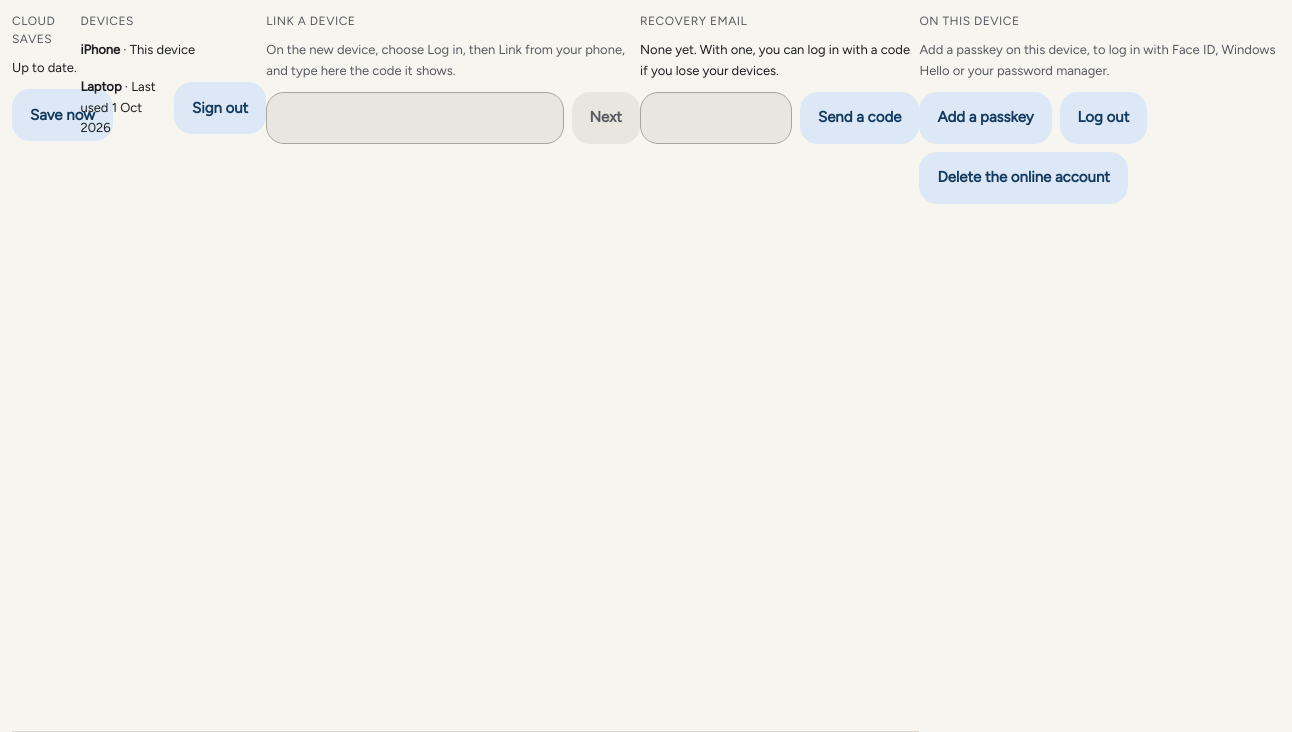
Test: Settings → Cloud saves › links a device once its name is seen, the code typed any way
Type "k7f29q" into the field named "Code on the new device". click: (415, 118)
box: top-left (266, 92), bottom-right (564, 144)
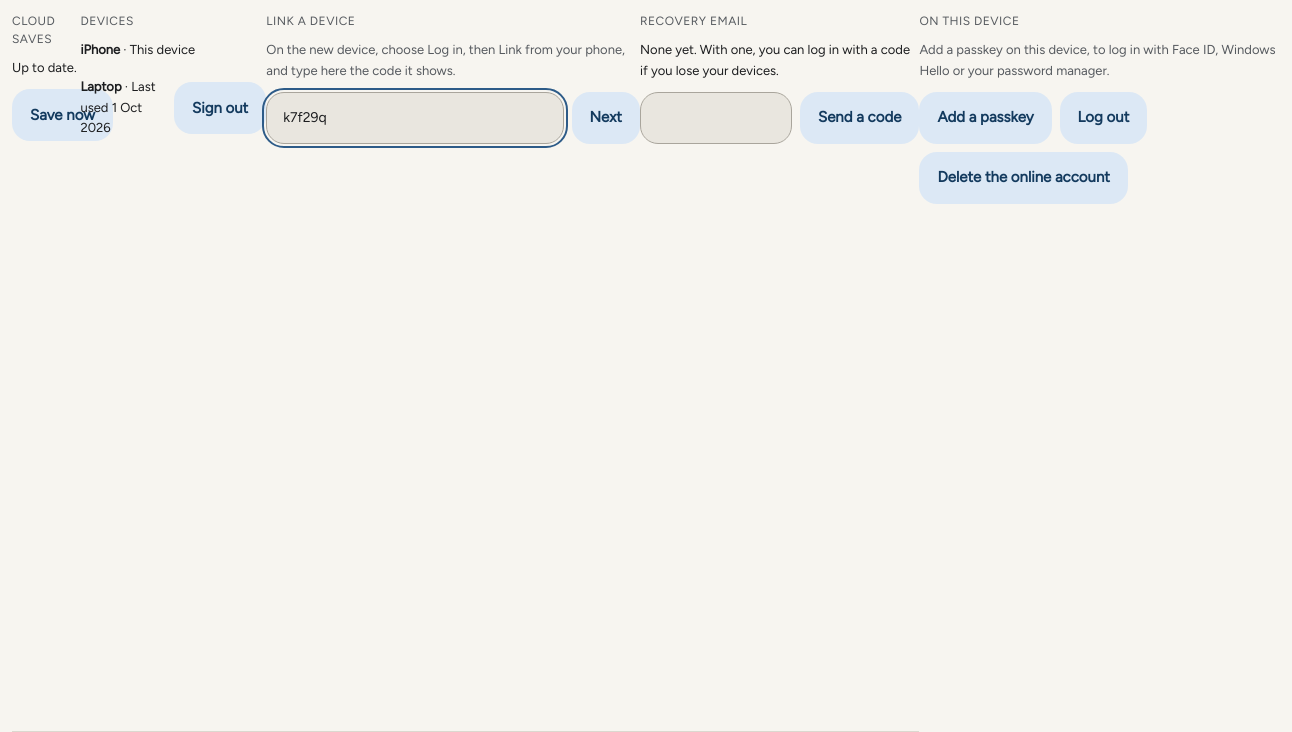
Click the button "Next". click: (606, 118)
box: top-left (572, 92), bottom-right (640, 144)
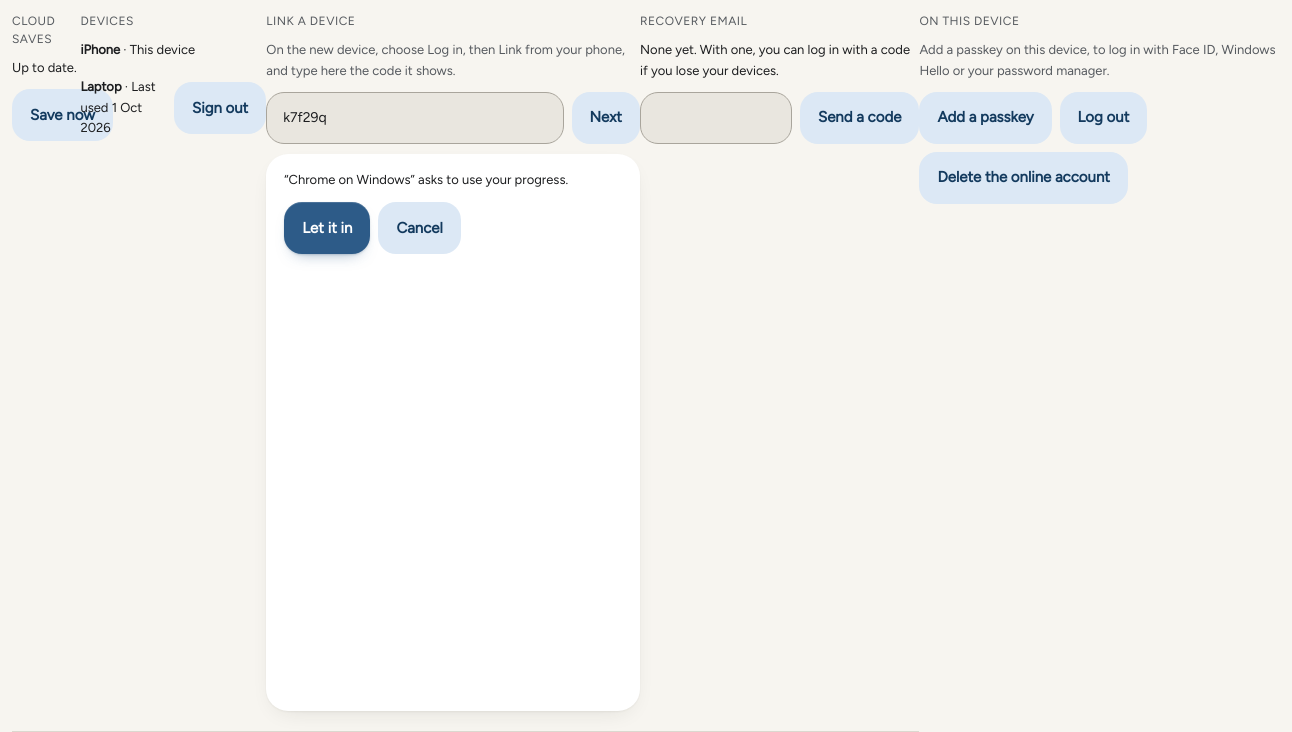
Check: the text "“Chrome on Windows” asks to use your progress." is shown, box top-left (284, 172), bottom-right (568, 187)
Click the button "Let it in". click: (327, 228)
box: top-left (284, 202), bottom-right (370, 254)
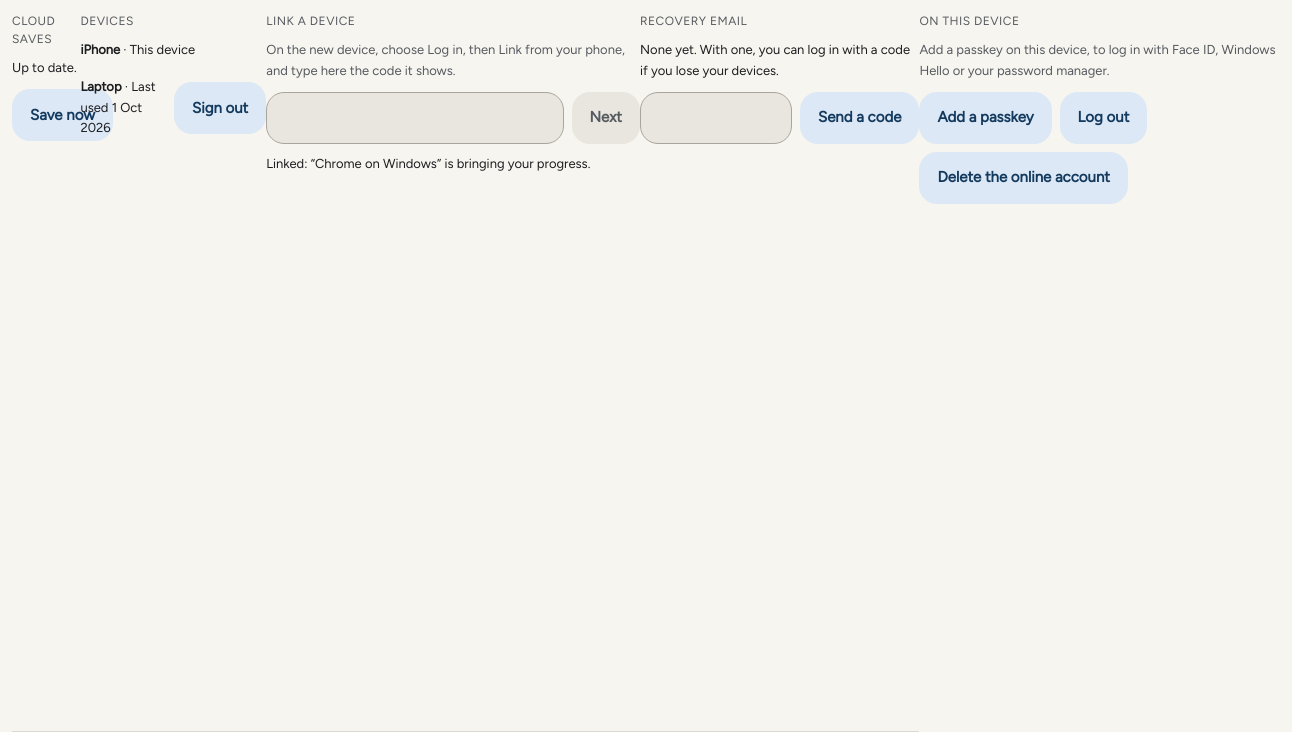
Check: the text "Linked: “Chrome on Windows” is bringing your progress." is shown, box top-left (266, 154), bottom-right (640, 174)
